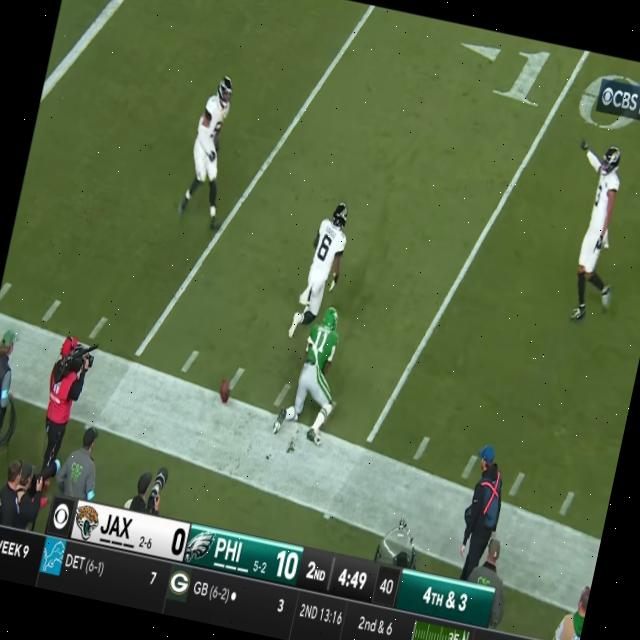Player: (560, 143, 633, 328), (286, 302, 348, 438), (182, 72, 242, 212), (294, 198, 356, 320)
